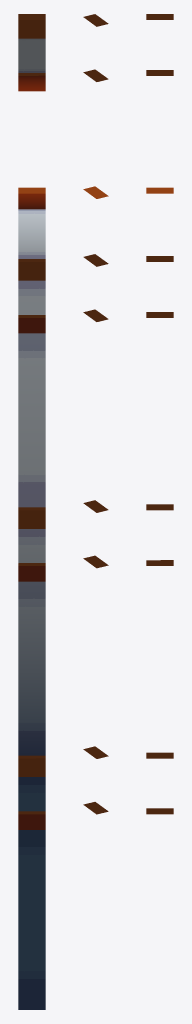
The picture shows the model from 3 angles, left to right: view 1: azimuth 90°, elevation 25°; view 2: azimuth 210°, elevation 25°; view 3: azimuth 270°, elevation 25°; orthographic projection.
Size of the model in its own units: 0.5203 by 40 by 1.
Materials: 2 (2 with a texture image).
